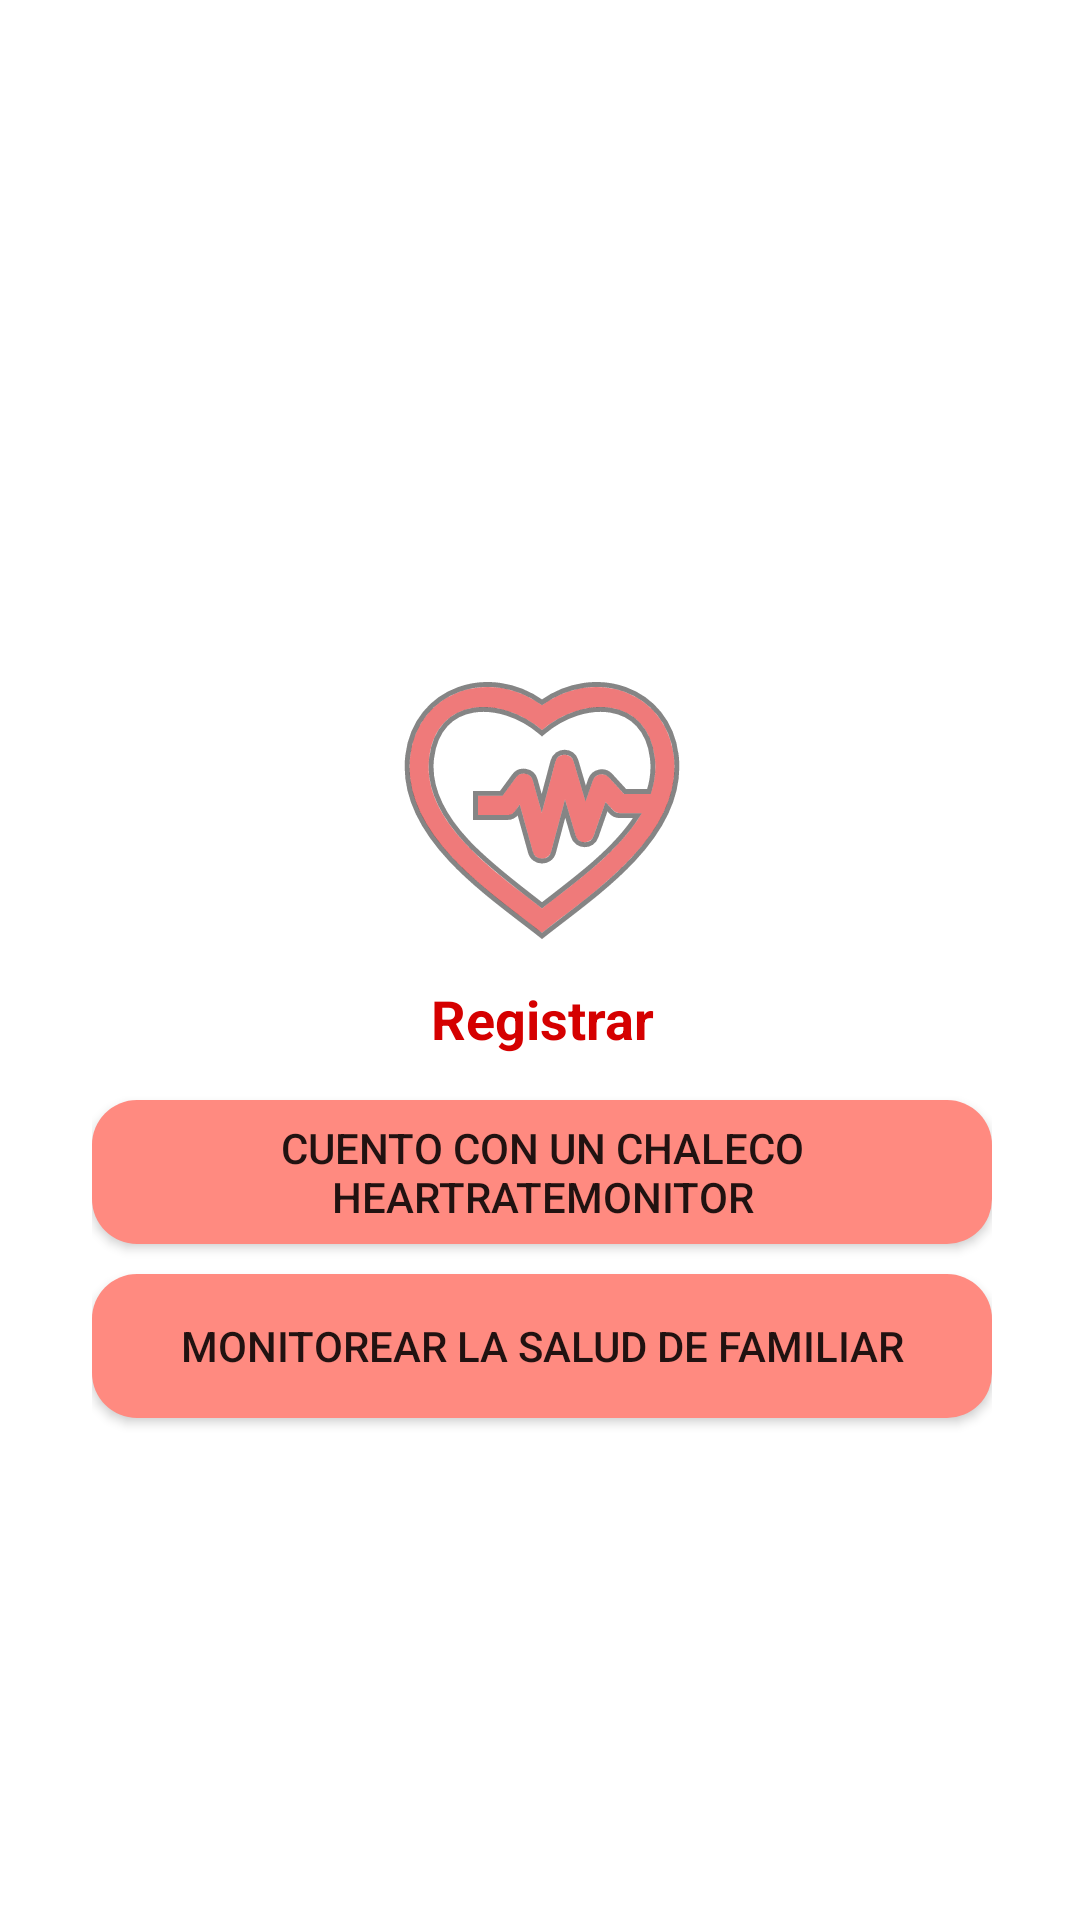

Icons on this 1080*1920 Android screen, each with the point to tap as point (x, y):
corazon: point (542, 810)
